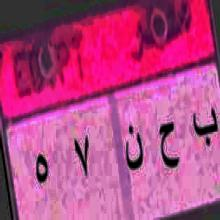5: (32, 151, 50, 193)
7: (72, 132, 93, 183)
7aa: (156, 114, 180, 173)
baa: (188, 105, 219, 153)
noon: (121, 118, 145, 178)
